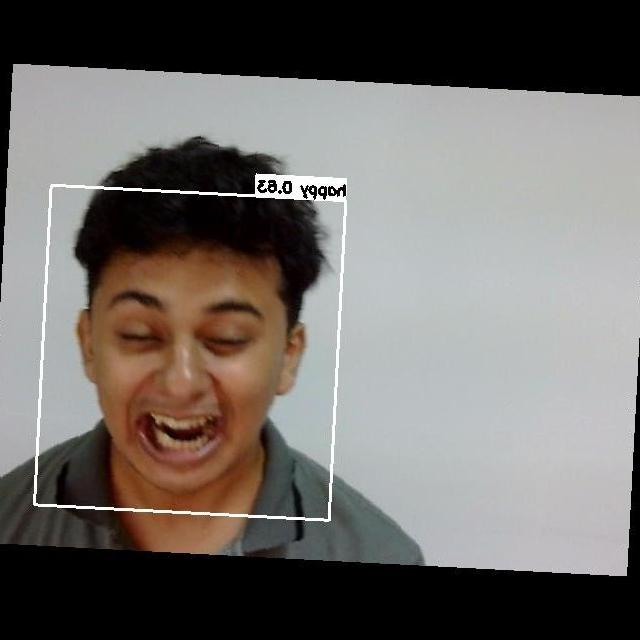Surprised: (92, 268, 277, 492)
